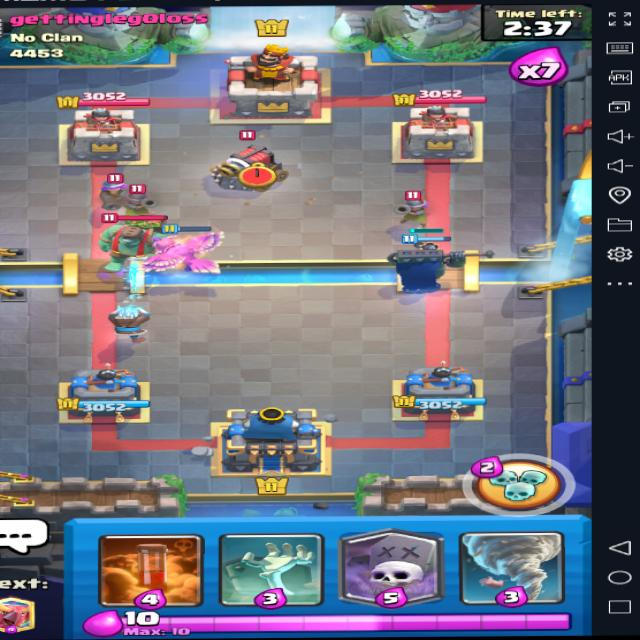goblin-giant: (94, 208, 180, 272)
musketeer: (390, 190, 448, 236), (90, 172, 151, 214), (119, 183, 170, 228)
sparky: (208, 125, 298, 188)
